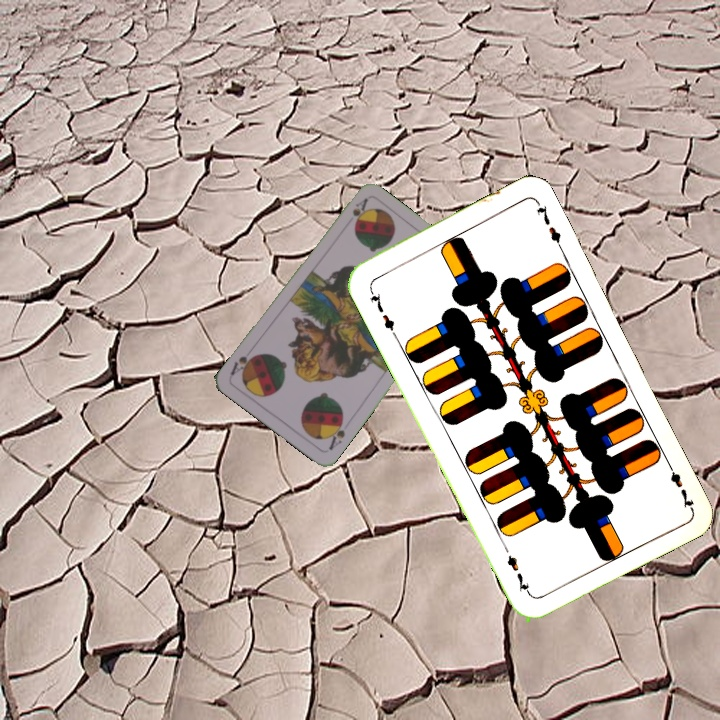E7: (364, 283, 399, 338), (662, 456, 697, 511)
SA: (324, 414, 348, 453), (348, 194, 371, 227)
